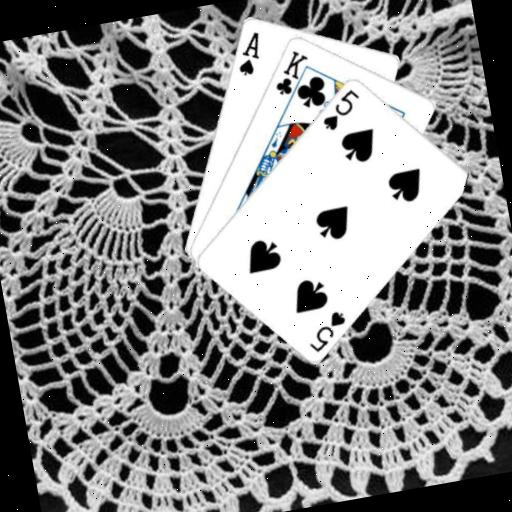5S: (313, 84, 365, 134), (300, 306, 352, 355)
AS: (229, 27, 267, 78)
KC: (266, 45, 316, 107)
